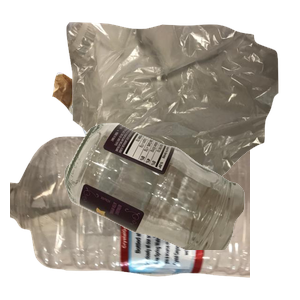cardboard: (50, 62, 228, 226)
glass: (62, 120, 300, 300)
plastic: (10, 134, 250, 300)
trash: (64, 20, 300, 200)
